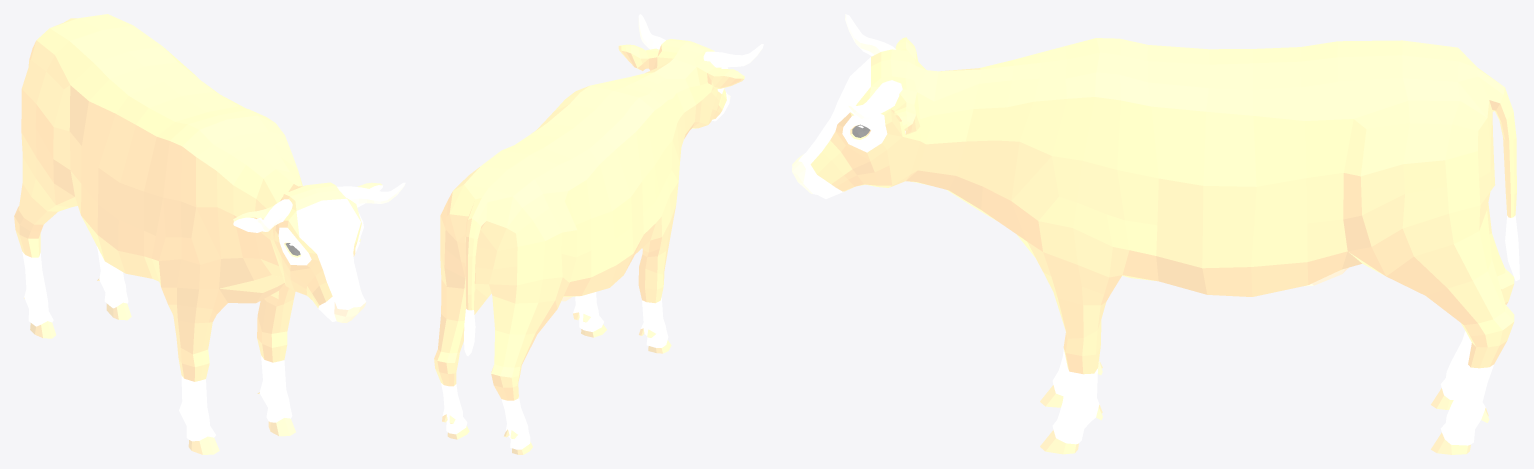
Rendered from stray_cow.glb.
3 renders of one model, left to right at view 1: azimuth 30°, elevation 25°; view 2: azimuth 150°, elevation 25°; view 3: azimuth 270°, elevation 25°, orthographic. The views are drawn at different scales.
Parts seen in each view (by area): view 1: Cow2; view 2: Cow2; view 3: Cow2.
Boxes of the visible parts, x1=… form: Cow2: x1=14, y1=14, x2=405, y2=454; Cow2: x1=434, y1=14, x2=763, y2=454; Cow2: x1=792, y1=14, x2=1519, y2=454.
Bounding box in the file's own units: 2.31 × 4.59 × 8.07.
1 material, 1 textured.
